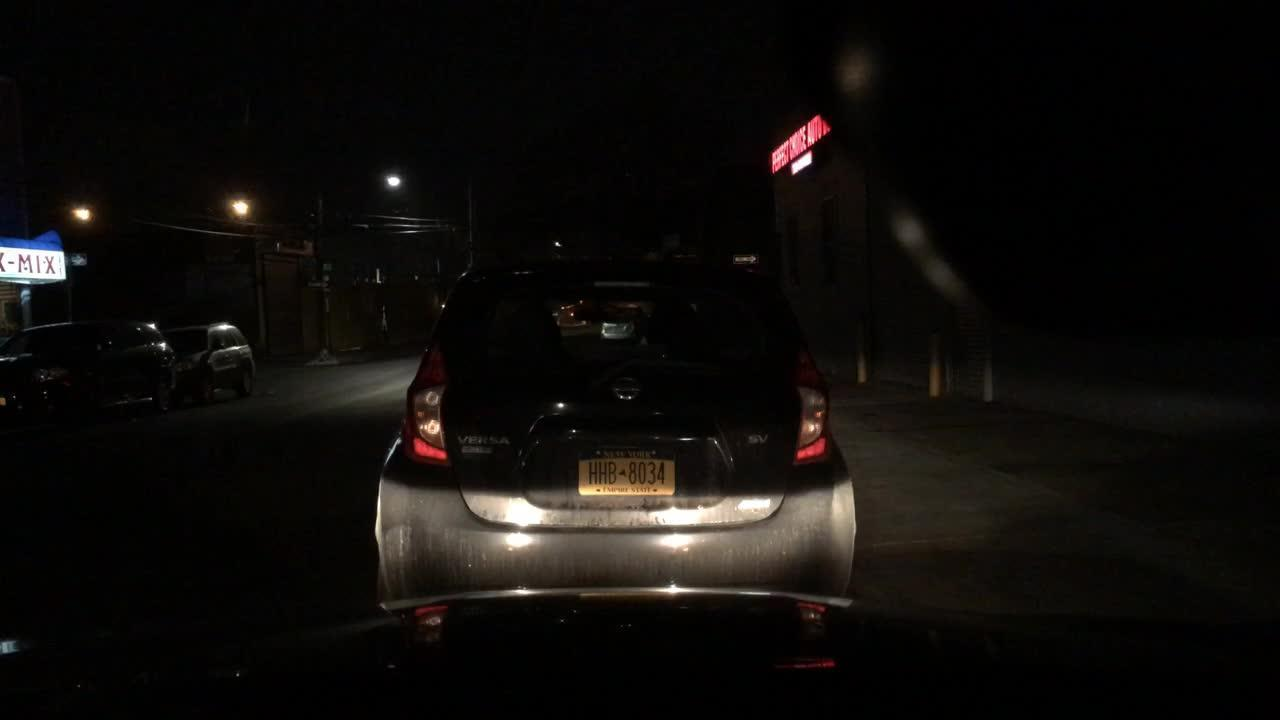Nissan: (603, 367, 651, 412)
